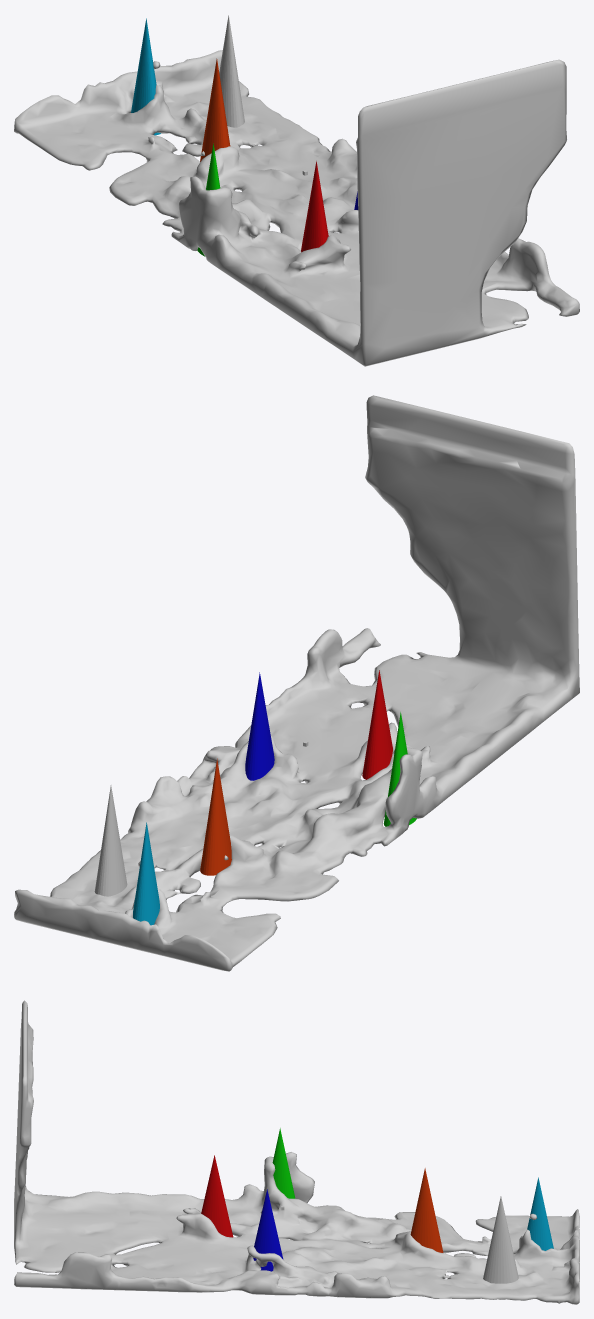
The picture shows the model from 3 angles, top to bottom: view 1: azimuth 30°, elevation 25°; view 2: azimuth 150°, elevation 25°; view 3: azimuth 270°, elevation 25°; orthographic projection. The views are drawn at different scales.
Visible parts, largest first — view 1: Liquid_Domain, 円錐, 円錐.004, 円錐.001, 円錐.005; view 2: Liquid_Domain, 円錐.004, 円錐, 円錐.002, 円錐.001, 円錐.005, 円錐.003; view 3: Liquid_Domain, 円錐, 円錐.004, 円錐.001, 円錐.002, 円錐.005, 円錐.003.
Boxes of the visible parts, x1,y1,x2,y2 form: Liquid_Domain: (14, 50, 579, 366); 円錐: (219, 15, 244, 127); 円錐.004: (200, 58, 230, 161); 円錐.001: (301, 161, 328, 252); 円錐.005: (131, 18, 160, 135); Liquid_Domain: (14, 395, 579, 971); 円錐.004: (200, 758, 231, 875); 円錐: (94, 785, 127, 896); 円錐.002: (245, 672, 274, 780); 円錐.001: (362, 670, 392, 779); 円錐.005: (133, 822, 159, 925); 円錐.003: (383, 712, 416, 826); Liquid_Domain: (14, 1000, 579, 1304); 円錐: (483, 1196, 518, 1283); 円錐.004: (410, 1168, 443, 1252); 円錐.001: (201, 1155, 233, 1237); 円錐.002: (253, 1189, 283, 1271); 円錐.005: (527, 1177, 553, 1250); 円錐.003: (272, 1128, 295, 1198).
Size of the model in its own units: 129 by 158 by 361.
